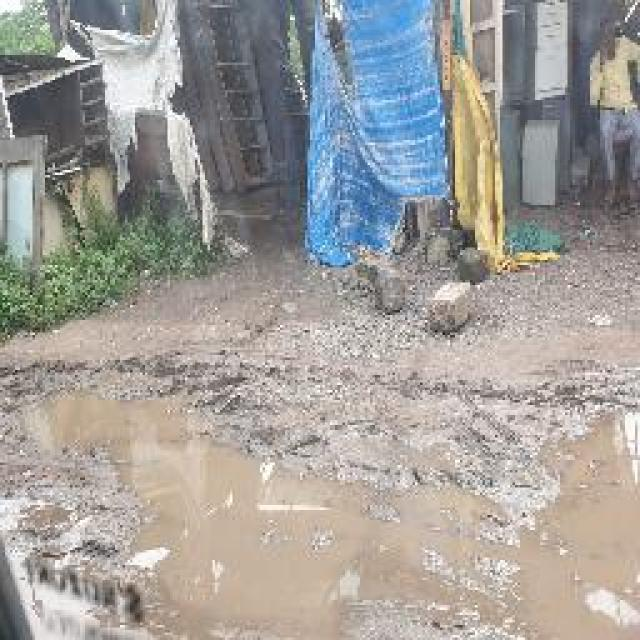stagnation: (0, 377, 360, 640), (375, 402, 631, 640)
